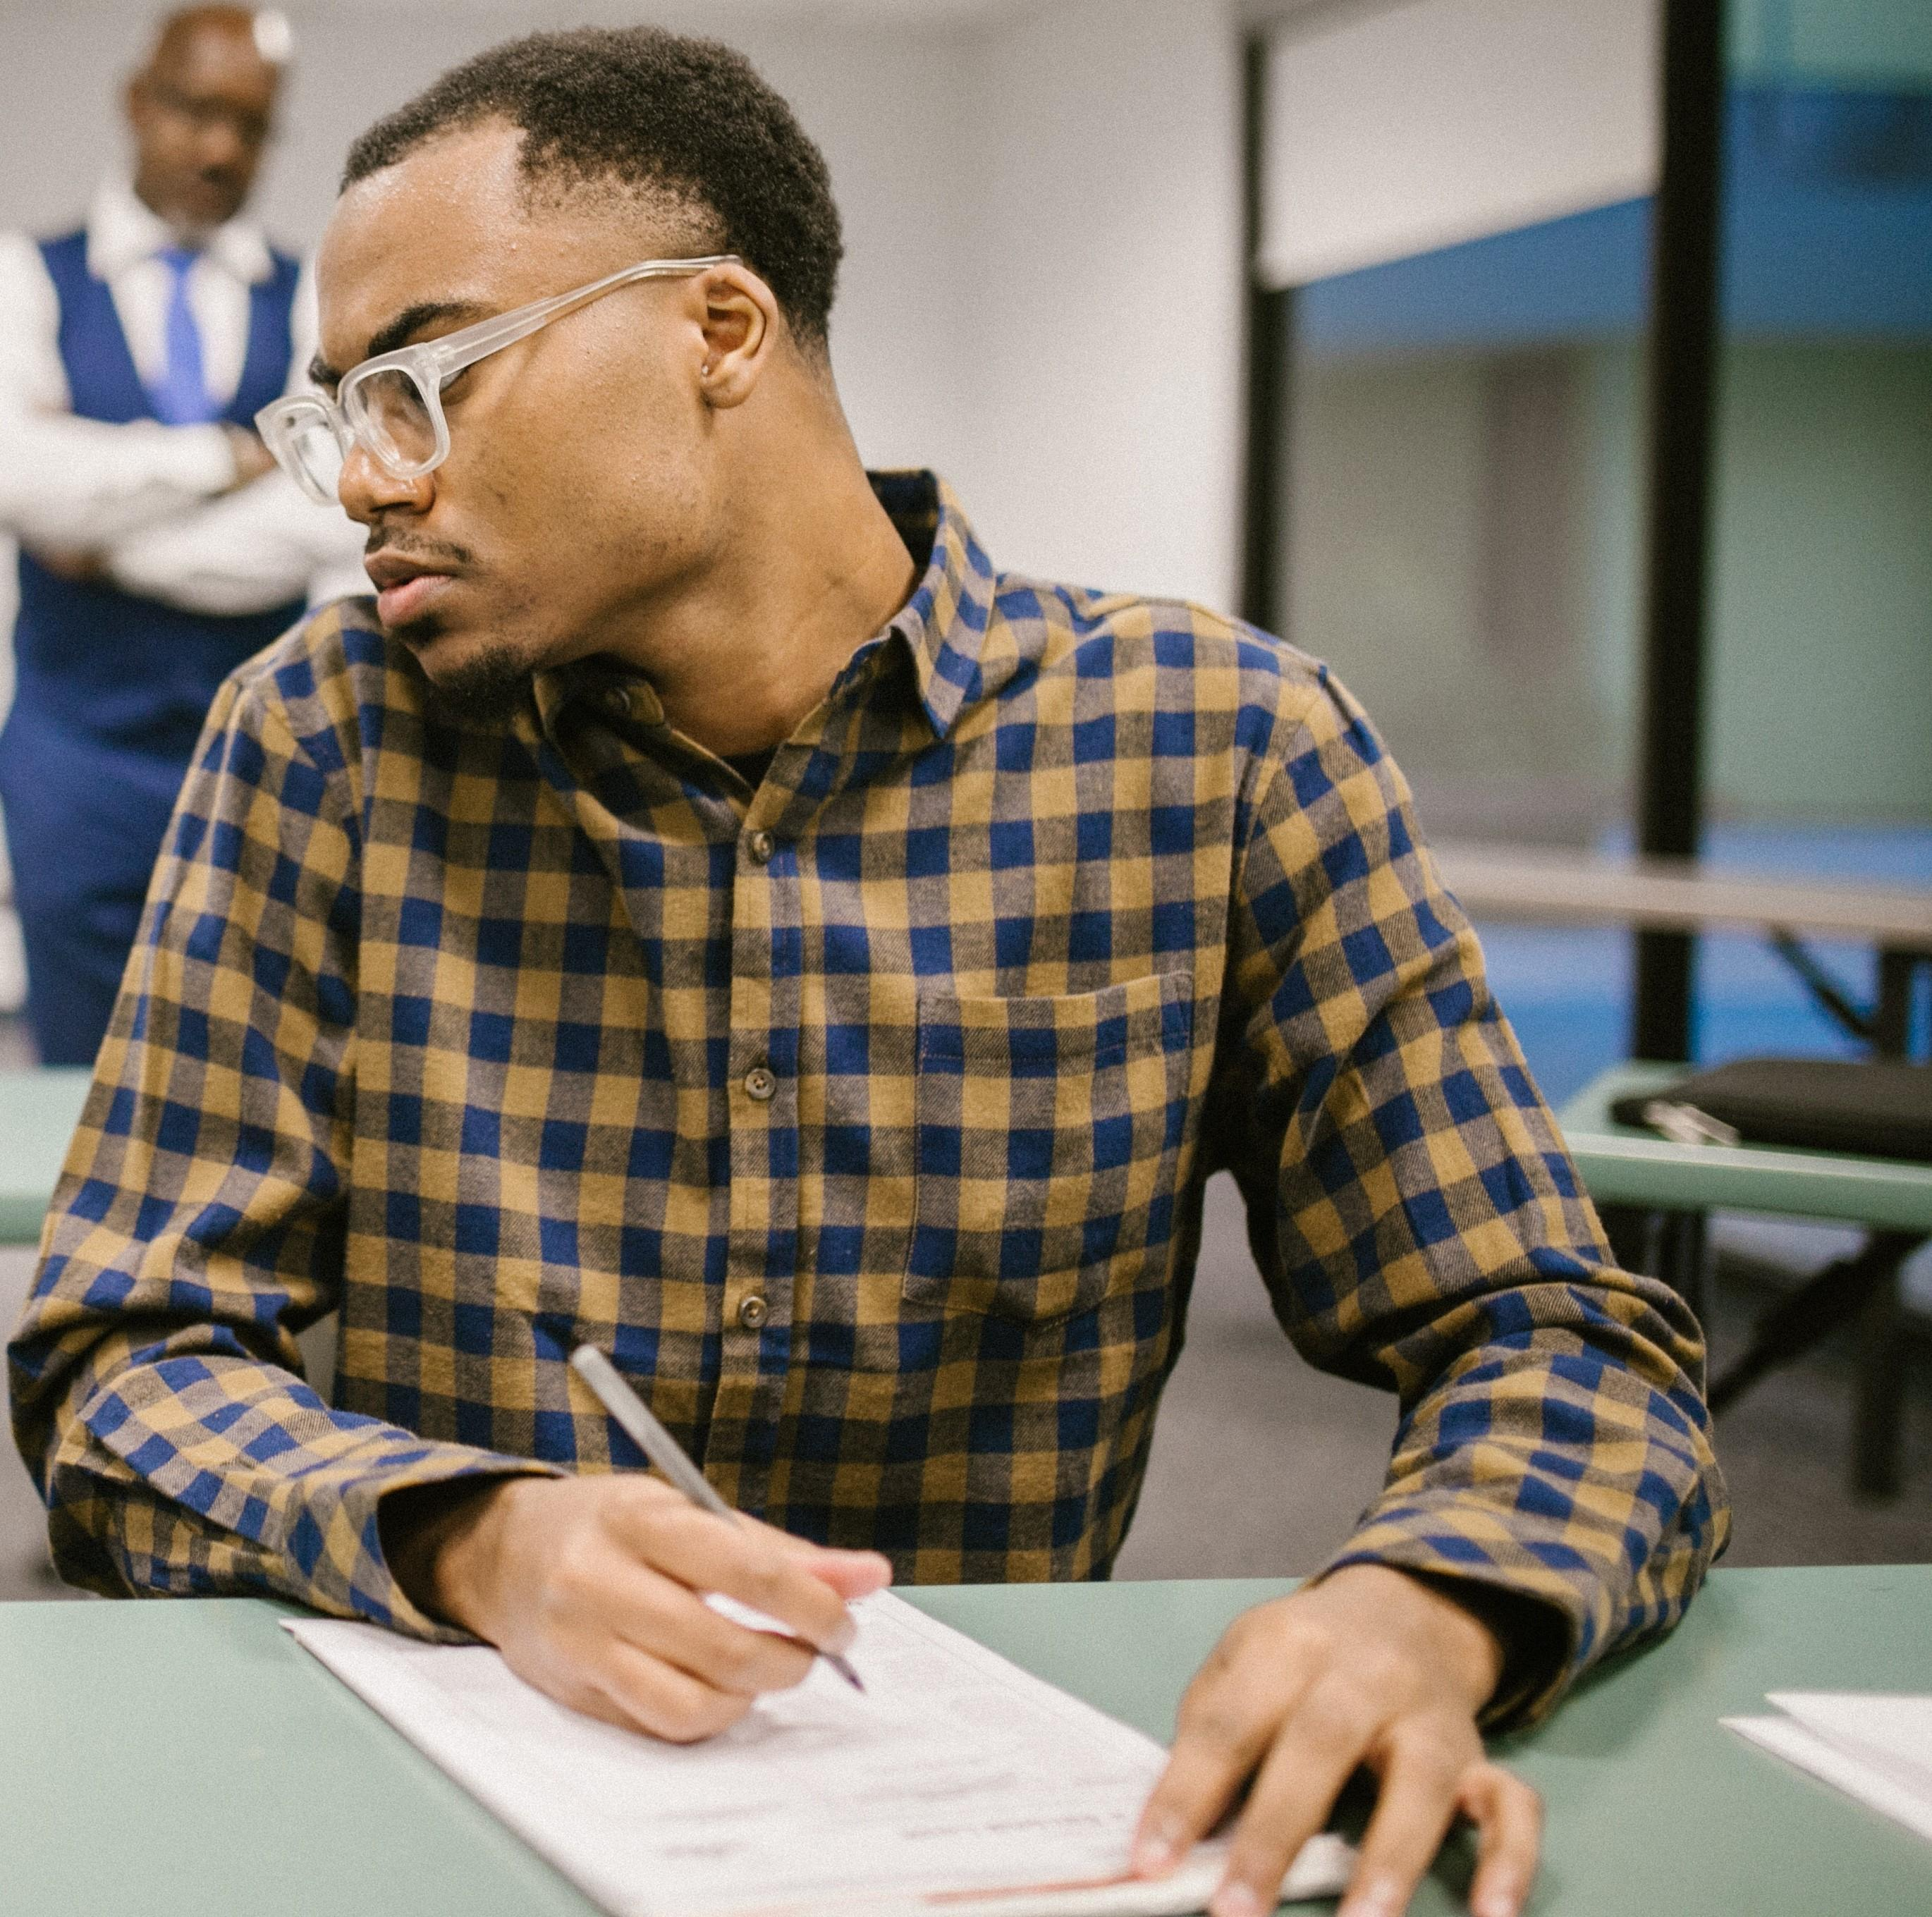cheating: (21, 28, 1777, 1913)
